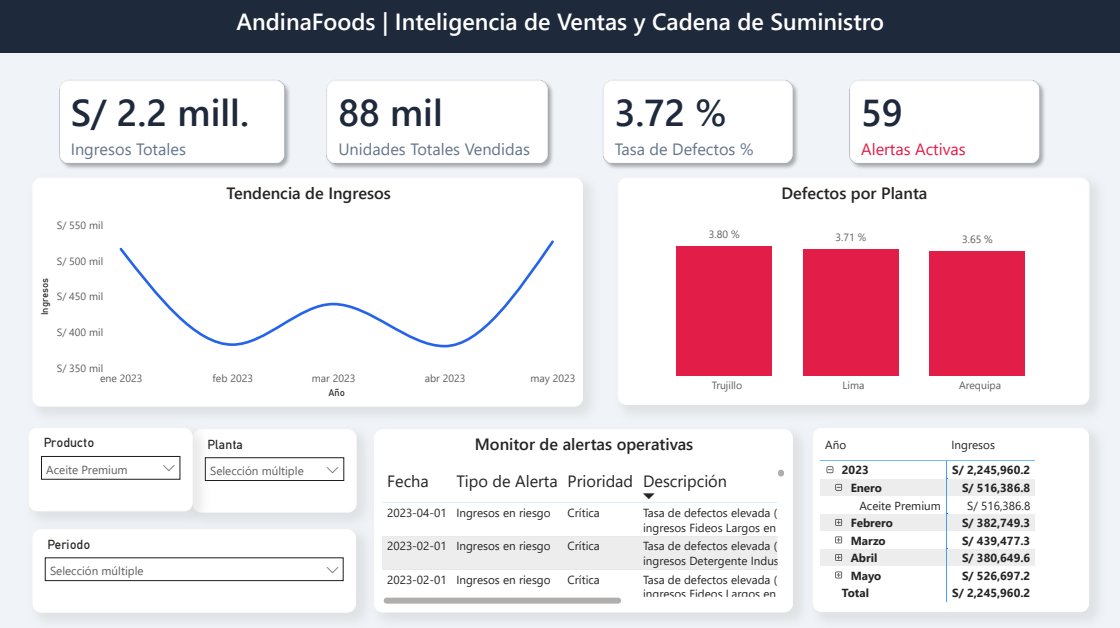

What the dashboard file says about the page in this screenshot:
{"tool":"powerbi","page":{"name":"Rendimiento y Alertas","canvas":[1280,720],"ordinal":0},"visuals":[{"type":"shape","box":[0,0,1280,60],"z":0},{"type":"cardVisual","fields":{"Data":["_Measures.Total Revenue"]},"box":[36.2,60,321.1,158.4],"z":0,"group":"g2"},{"type":"textbox","box":[0,0,1278.9,60],"z":1000},{"type":"cardVisual","fields":{"Data":["_Measures.Total Units Sold"]},"box":[341.6,60,316,158],"z":1000,"group":"g2"},{"type":"group","id":"g1","title":"Grupo 1","box":[36.2,60,1181.4,158.4],"z":2000},{"type":"cardVisual","fields":{"Data":["_Measures.Defect Rate %"]},"box":[657.6,60,280,158],"z":2000,"group":"g2"},{"type":"cardVisual","fields":{"Data":["_Measures.Active Alerts"]},"box":[937.6,60,280,158],"z":3000,"group":"g2"},{"type":"lineChart","title":"Tendencia de Ingresos","fields":{"Y":["_Measures.Total Revenue"],"Category":["Dim_Calendario.Date.Variación.Jerarquía de fechas.Año","Dim_Calendario.Date.Variación.Jerarquía de fechas.Mes"]},"box":[37,203.1,628.5,260.7],"z":3000},{"type":"clusteredColumnChart","title":"Defectos por Planta","fields":{"Category":["public plants.plant_location"],"Y":["_Measures.Defect Rate %"]},"box":[705.3,203.1,537.9,259.3],"z":4000},{"type":"tableEx","title":"Monitor de alertas operativas","fields":{"Values":["business_alerts.alert_date","business_alerts.alert_type","business_alerts.priority","business_alerts.description"]},"box":[426.8,489.9,477.5,208.6],"z":5000},{"type":"slicer","fields":{"Values":["public plants.plant_location"]},"box":[219.6,489.9,186.6,94.7],"z":6000},{"type":"slicer","fields":{"Values":["Dim_Calendario.Date.Variación.Jerarquía de fechas.Año","Dim_Calendario.Date.Variación.Jerarquía de fechas.Mes"]},"box":[37,603.8,369.1,94.7],"z":7000},{"type":"pivotTable","fields":{"Rows":["Dim_Calendario.Date.Variación.Jerarquía de fechas.Año","Dim_Calendario.Date.Variación.Jerarquía de fechas.Mes","public products.product_name"],"Values":["_Measures.Total Revenue"]},"box":[927.7,488.1,315.4,209.8],"z":8000},{"type":"slicer","fields":{"Values":["public products.product_name"]},"box":[32.9,488.5,186.6,94.7],"z":9000},{"type":"group","id":"g2","title":"Grupo 2","box":[36.2,60,1181.4,158.4],"z":9001,"group":"g1"}]}

Visuals, with their boxes in screenshot pixels (x1, y1, x2, y2), scaled from the page's 1280x720 canvas onto the 1120x628 screenshot:
shape: [x1=0, y1=0, x2=1119, y2=52]
cardVisual - _Measures.Total Revenue: [x1=32, y1=52, x2=313, y2=190]
textbox: [x1=0, y1=0, x2=1119, y2=52]
cardVisual - _Measures.Total Units Sold: [x1=299, y1=52, x2=575, y2=190]
"Grupo 1" group: [x1=32, y1=52, x2=1065, y2=190]
cardVisual - _Measures.Defect Rate %: [x1=575, y1=52, x2=820, y2=190]
cardVisual - _Measures.Active Alerts: [x1=820, y1=52, x2=1065, y2=190]
"Tendencia de Ingresos" lineChart: [x1=32, y1=177, x2=582, y2=405]
"Defectos por Planta" clusteredColumnChart: [x1=617, y1=177, x2=1088, y2=403]
"Monitor de alertas operativas" tableEx: [x1=373, y1=427, x2=791, y2=609]
slicer - public plants.plant_location: [x1=192, y1=427, x2=355, y2=510]
slicer - Dim_Calendario.Date.Variación.Jerarquía de fechas.Año x Dim_Calendario.Date.Variación.Jerarquía de fechas.Mes: [x1=32, y1=527, x2=355, y2=609]
pivotTable - Dim_Calendario.Date.Variación.Jerarquía de fechas.Año x Dim_Calendario.Date.Variación.Jerarquía de fechas.Mes: [x1=812, y1=426, x2=1088, y2=609]
slicer - public products.product_name: [x1=29, y1=426, x2=192, y2=509]
"Grupo 2" group: [x1=32, y1=52, x2=1065, y2=190]
